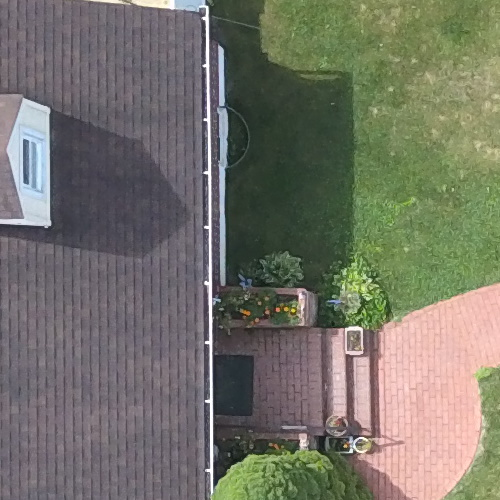flower pot: (320, 408, 350, 436), (354, 432, 375, 455)
